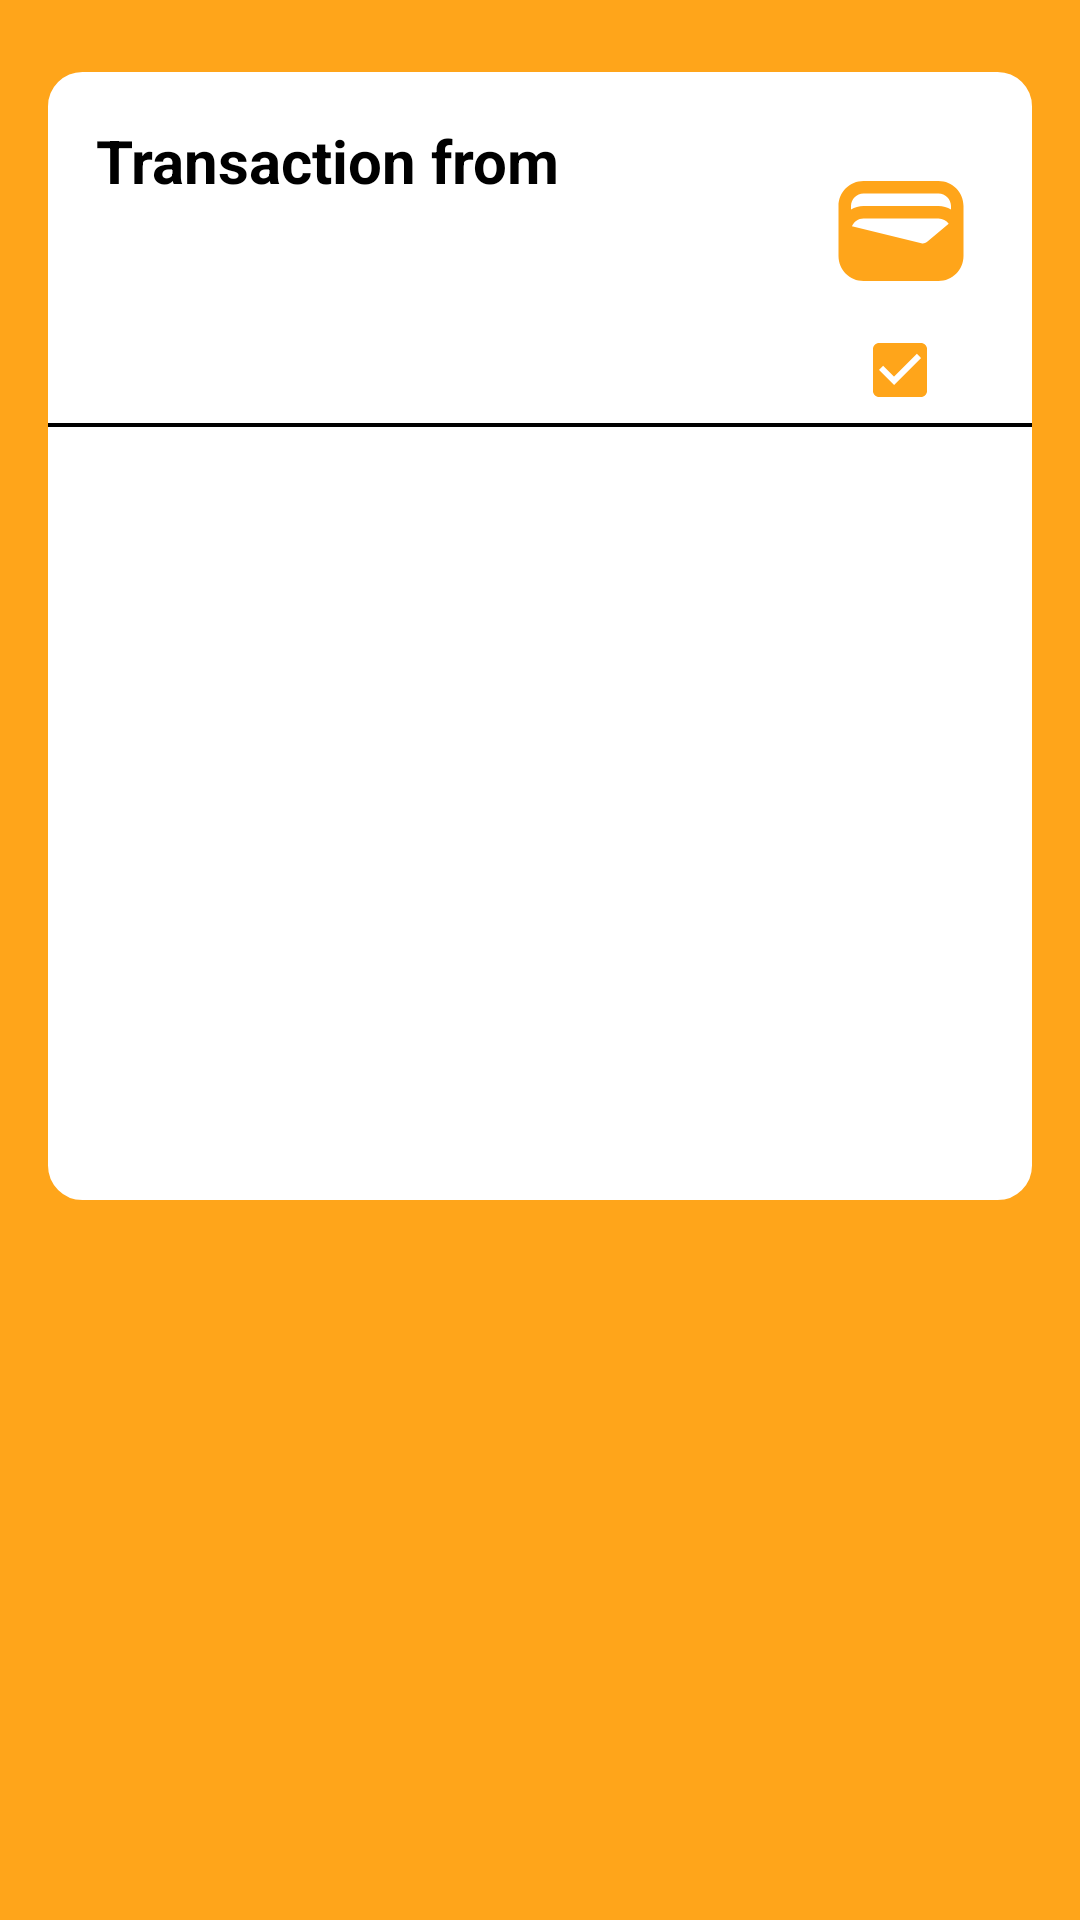

Where to tap for icons on this 1080w x 1920h app screen, as (x=x, y=y):
wallet: (x=901, y=231)
